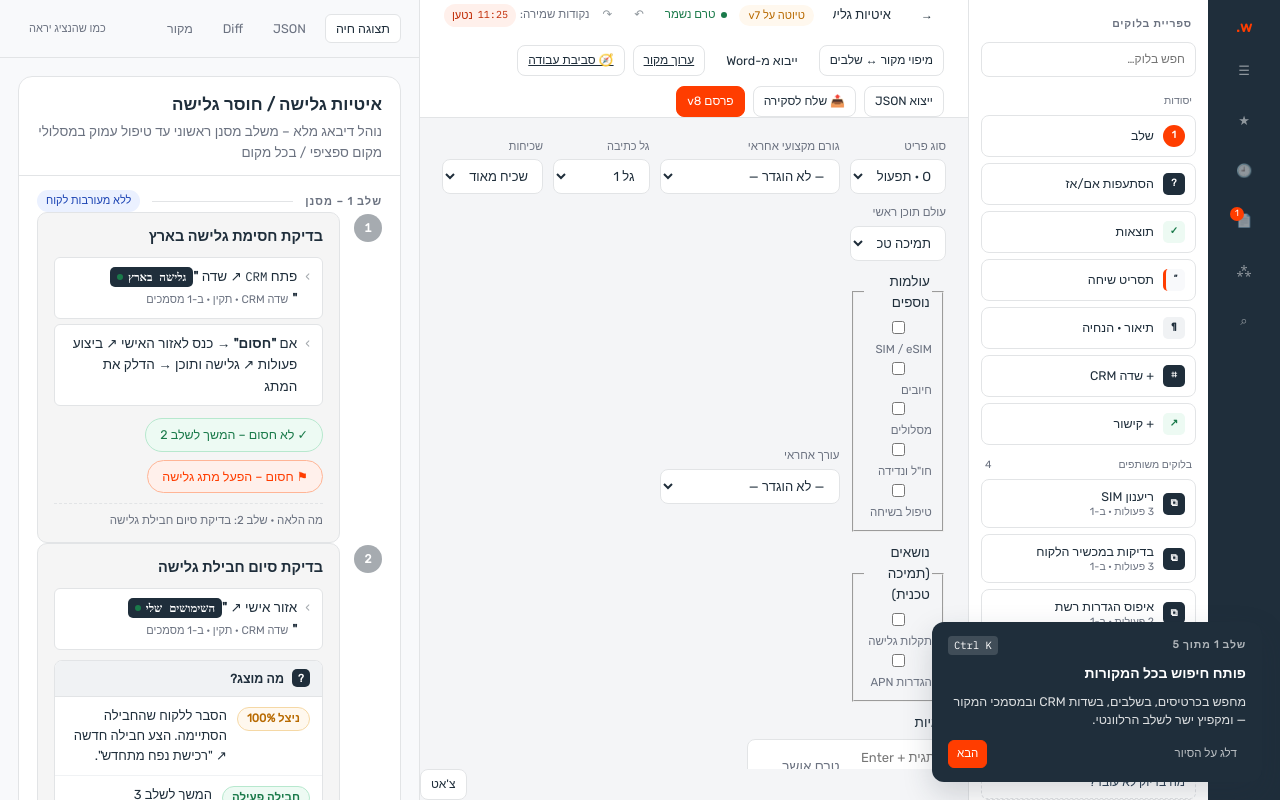
Test: V6 editor mounts › pre-ticks the significant-change checkbox from the preview, sends it, and toasts the flag
Click the button "פרסם v8" at (710, 101), box [676,86,745,117]
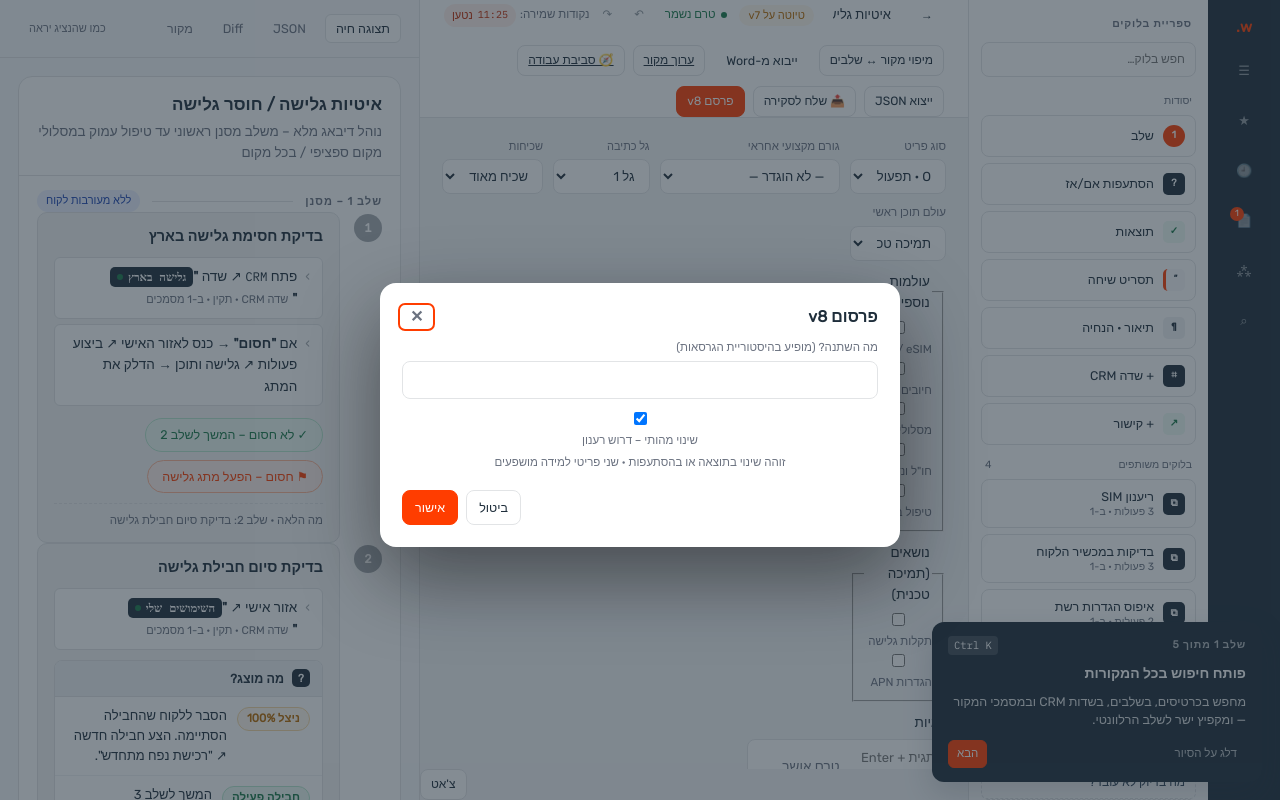
Result: the checkbox labelled "שינוי מהותי – דרוש רענון" is checked at [634,412,647,425]
Result: the text "זוהה שינוי בתוצאה או בהסתעפות · שני פריטי למידה מושפעים" is shown at [494,454,786,472]
Click the button "אישור" at (430, 508), box [402,490,458,525]
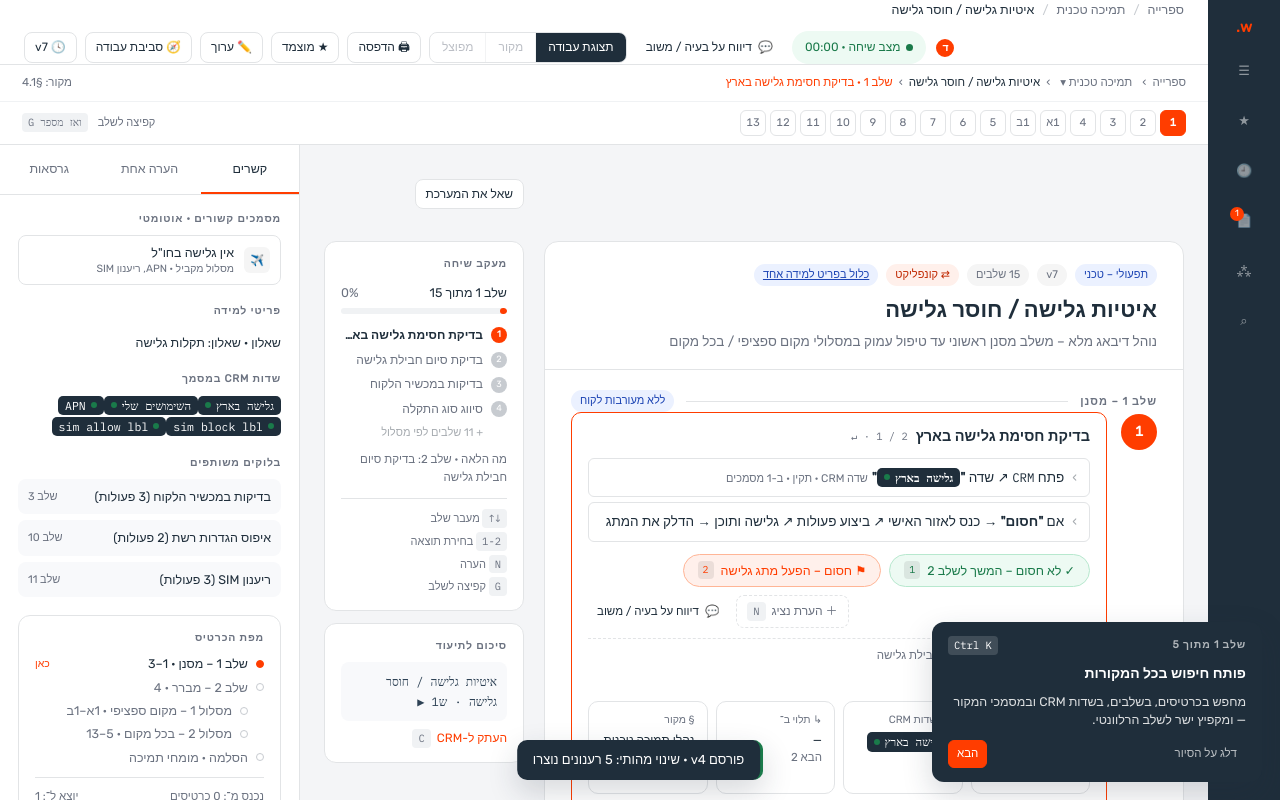
Result: the text "פורסם v4 · שינוי מהותי: 5 רענונים נוצרו" is shown at [533,750,744,770]
